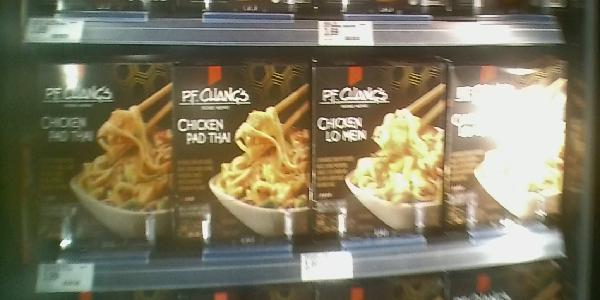pizza: (21, 60, 176, 252), (178, 66, 313, 254), (315, 68, 445, 235), (449, 65, 565, 229)
